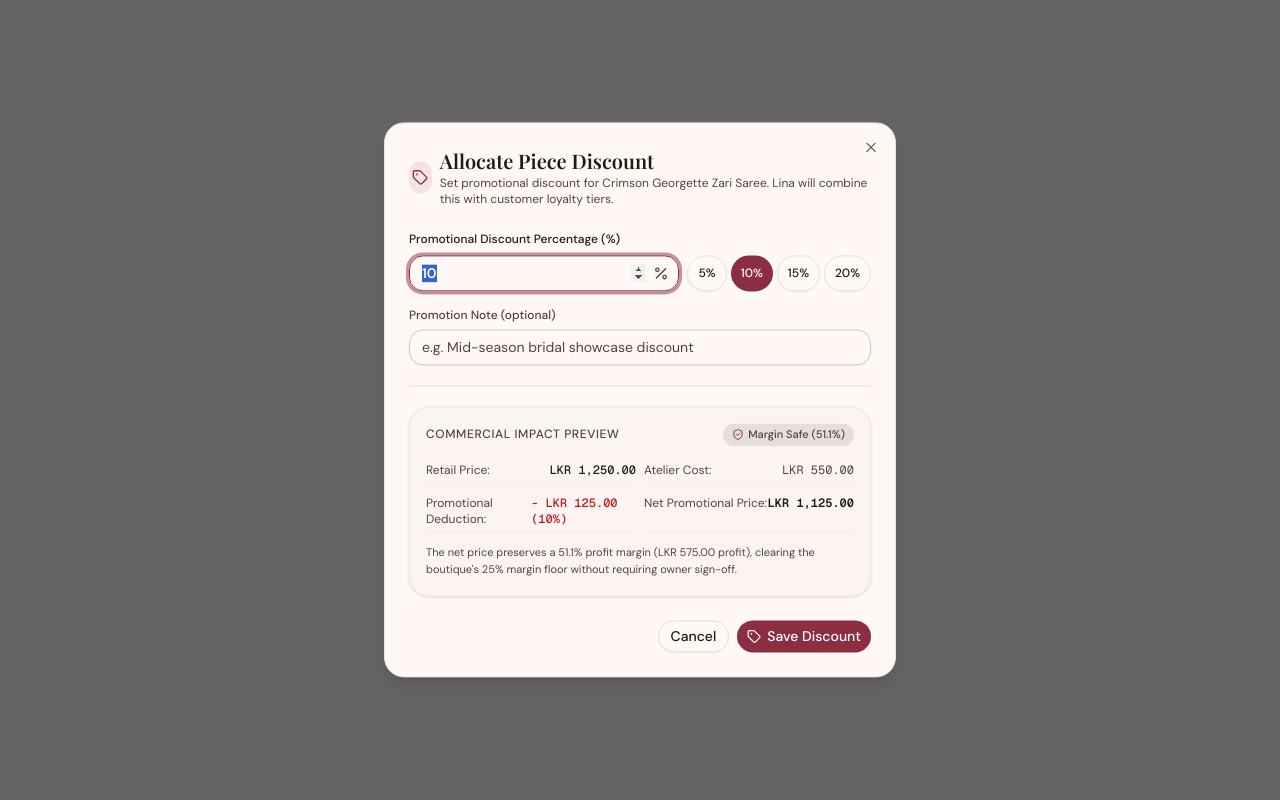
it: PieceDiscountModal › updates commercial preview when preset button is clicked
The image size is (1280, 800).
Click the button "20%". click: (848, 273)
box: x1=824 y1=255 x2=871 y2=291
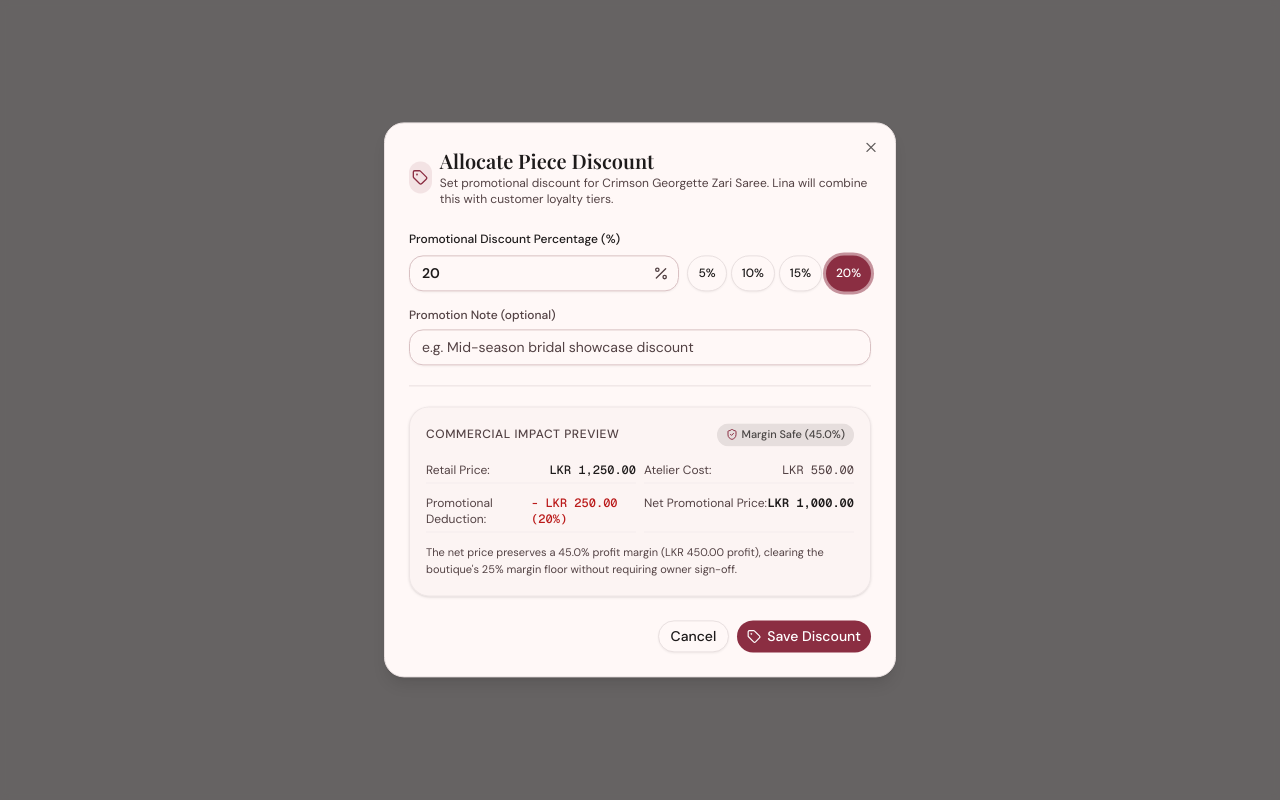
Result: the number field showing "20" is shown at x1=409 y1=255 x2=680 y2=291
